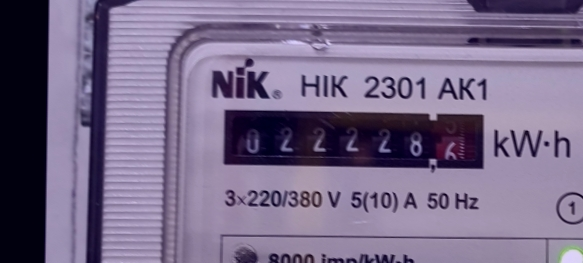0: (243, 125, 259, 154)
2: (276, 124, 295, 153), (375, 126, 393, 155), (310, 124, 327, 153), (342, 125, 360, 152)
5: (442, 115, 458, 135)
6: (441, 138, 458, 159)
8: (407, 129, 423, 157)
screen: (214, 98, 493, 177)
